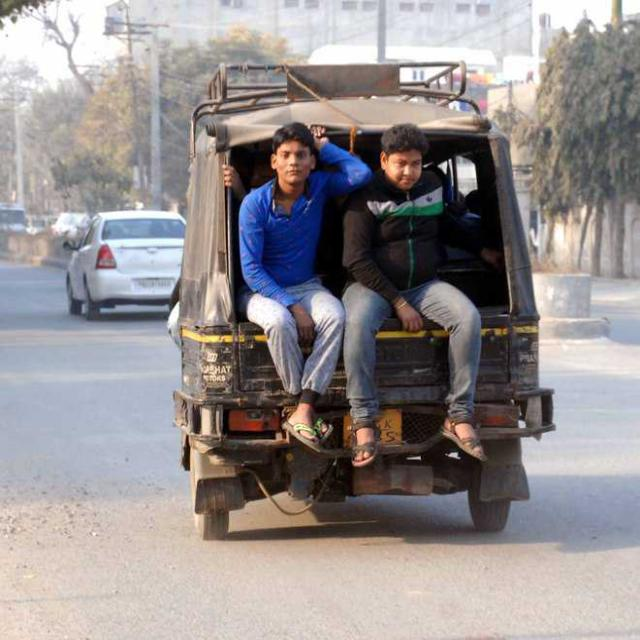autorickshaw: (174, 64, 556, 538)
car: (65, 211, 185, 315)
